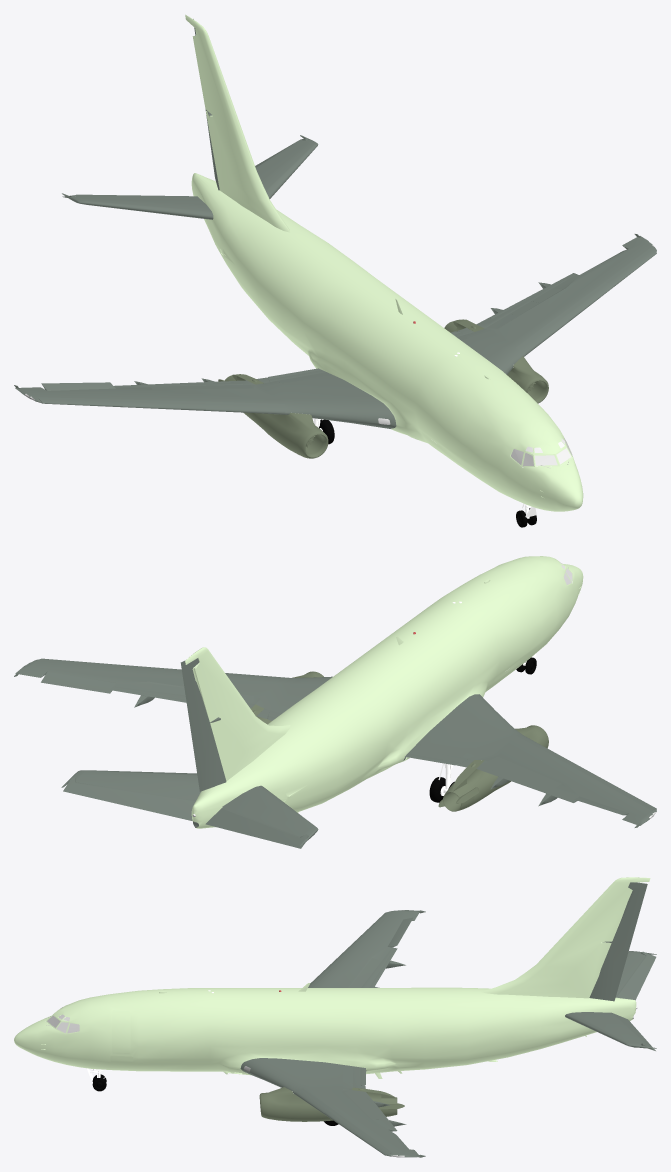
File: exterior_v1.gltf
3 views of the same model, one above another, from view 1: azimuth 30°, elevation 25°; view 2: azimuth 150°, elevation 25°; view 3: azimuth 270°, elevation 25° (orthographic). The views are drawn at different scales.
Parts seen in each view (by area): view 1: Fuselage, Wings, HTail, RightEngine, LeftFlapsOutboard, LeftEngine, Windows; view 2: Fuselage, Wings, HTail, VTail, LeftElevator, RightEngine, RightElevator, LeftFlapsOutboard, LeftAileron; view 3: Fuselage, Wings, VTail, LeftEngine, HTail, LeftFlapsOutboard, RightElevator, LeftFlapsInboard, Windows.
Part boxes in pixels (x1=…): Fuselage: x1=185, y1=14, x2=583, y2=511; Wings: x1=14, y1=234, x2=656, y2=428; HTail: x1=62, y1=135, x2=318, y2=219; RightEngine: x1=218, y1=374, x2=328, y2=458; LeftFlapsOutboard: x1=476, y1=273, x2=579, y2=331; LeftEngine: x1=444, y1=319, x2=548, y2=403; Windows: x1=25, y1=242, x2=655, y2=466; Fuselage: x1=185, y1=556, x2=583, y2=828; Wings: x1=14, y1=658, x2=656, y2=827; HTail: x1=61, y1=770, x2=318, y2=845; VTail: x1=180, y1=658, x2=226, y2=791; LeftElevator: x1=63, y1=777, x2=196, y2=820; RightEngine: x1=438, y1=725, x2=548, y2=811; RightElevator: x1=205, y1=807, x2=308, y2=848; LeftFlapsOutboard: x1=110, y1=681, x2=260, y2=708; LeftAileron: x1=41, y1=671, x2=116, y2=693; Fuselage: x1=14, y1=877, x2=650, y2=1075; Wings: x1=240, y1=910, x2=425, y2=1157; VTail: x1=589, y1=882, x2=647, y2=1001; LeftEngine: x1=259, y1=1087, x2=404, y2=1121; HTail: x1=565, y1=951, x2=656, y2=1048; LeftFlapsOutboard: x1=342, y1=1089, x2=406, y2=1131; RightElevator: x1=615, y1=951, x2=656, y2=1000; LeftFlapsInboard: x1=343, y1=1066, x2=365, y2=1088; Windows: x1=47, y1=910, x2=637, y2=1157.
Size of the model in its own units: 29.52 by 12.25 by 32.54.
